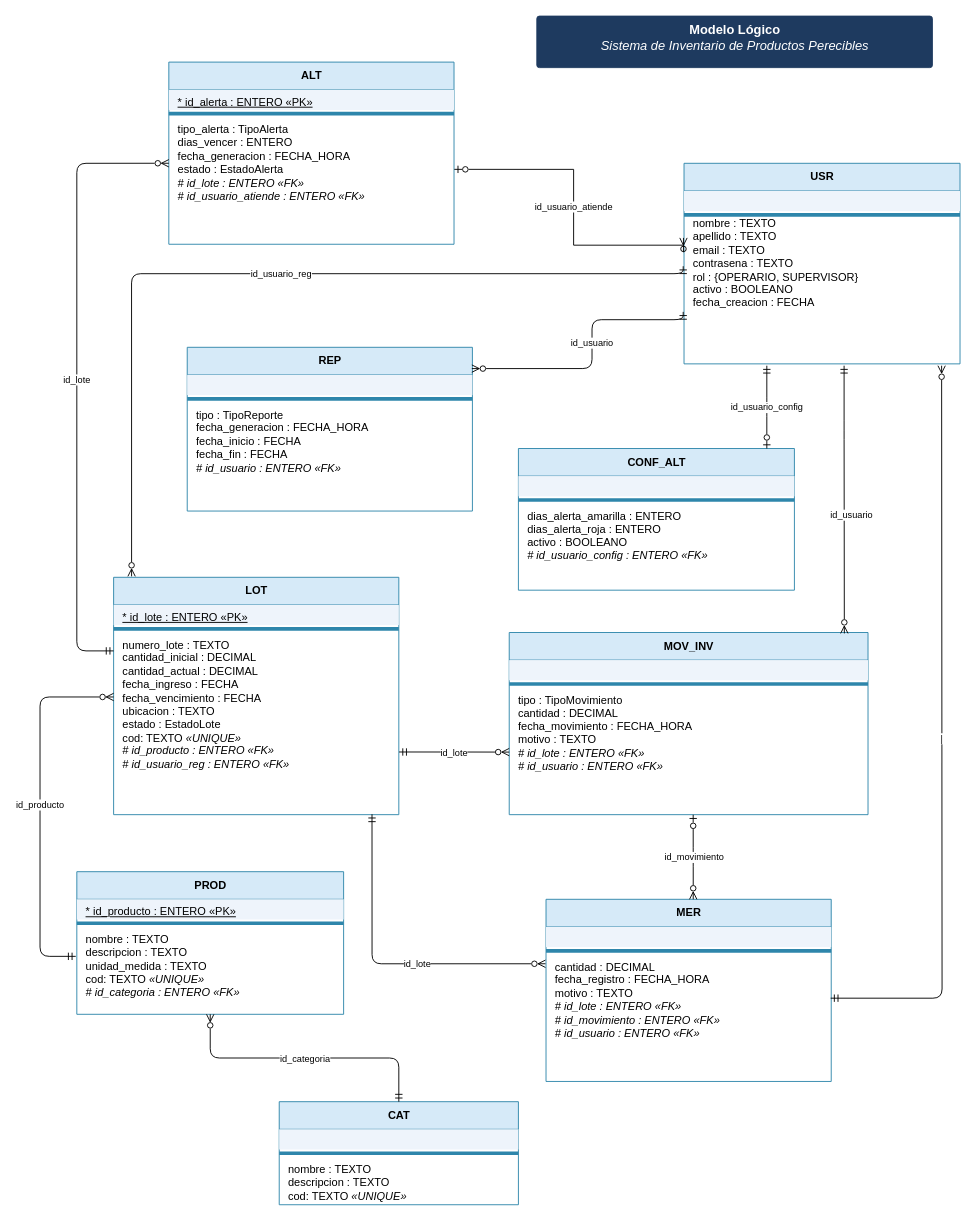
This 977x1221 diagram has some shape labels left out. The centre of each missing label's shape, as x and y in pixels:
* id_categoria : ENTERO «PK»: (398,1139)
* id_config : ENTERO «PK»: (656,486)
* id_merma : ENTERO «PK»: (688,936)
* id_movimiento : ENTERO «PK»: (688,670)
* id_reporte : ENTERO «PK»: (329,384)
* id_usuario : ENTERO «PK»: (822,200)
